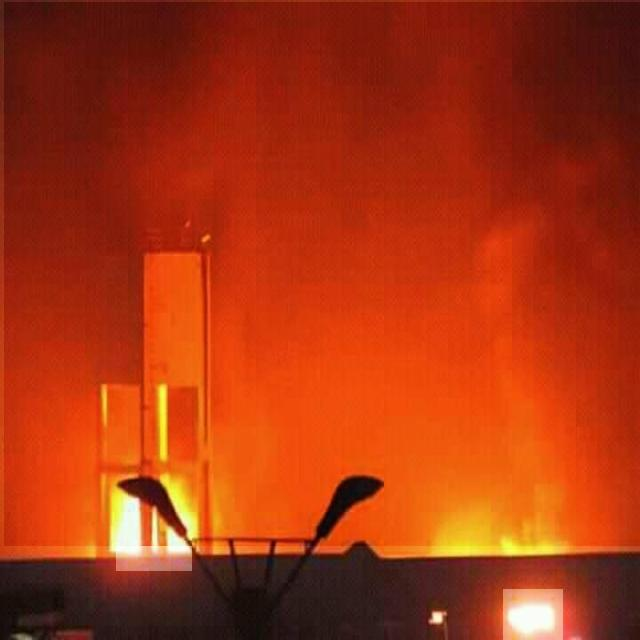Fire: (116, 474, 192, 571), (503, 589, 563, 640)
Smoke: (4, 2, 640, 546)
